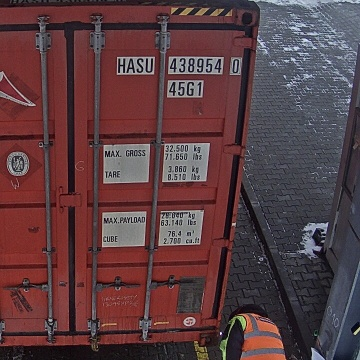serial_id: (117, 58, 240, 74)
